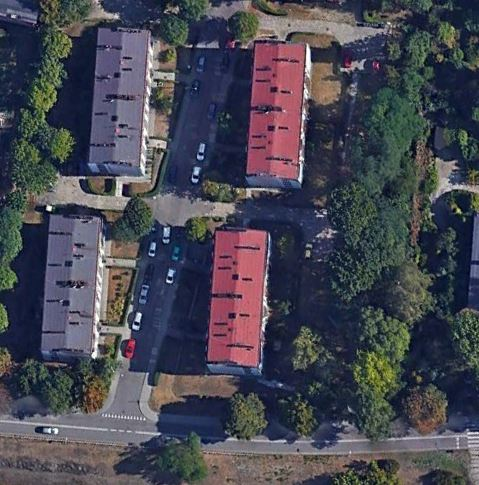block of flats: (36, 211, 111, 368), (85, 24, 156, 175), (243, 37, 313, 190), (208, 225, 272, 378)
